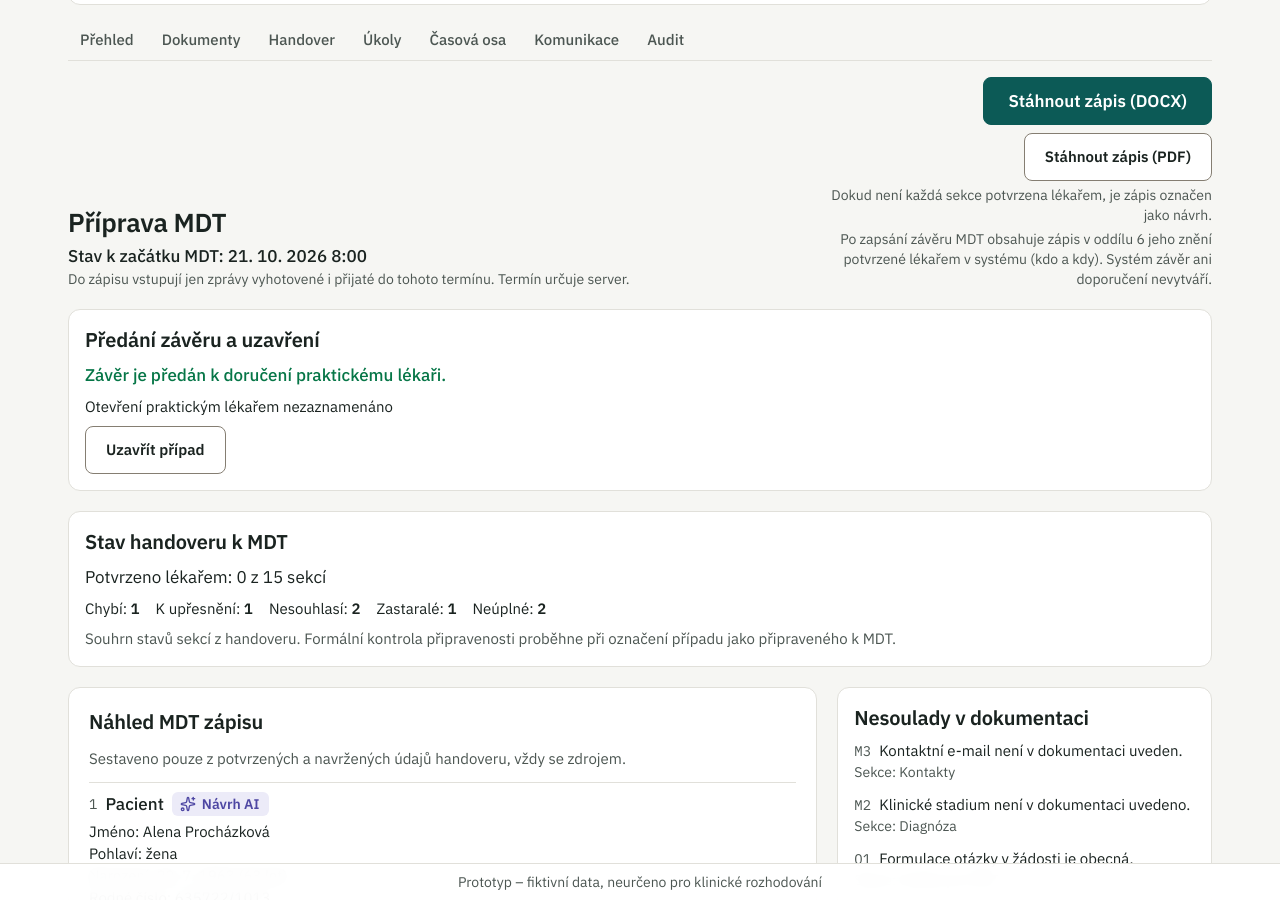
Scenario: Uzavřít případ (koordinátorka) › shows the API problem when closing is refused
This screenshot has width=1280, height=900.
(page scrolled)
Click the button "Uzavřít případ" at (155, 450), box x1=85 y1=426 x2=226 y2=474
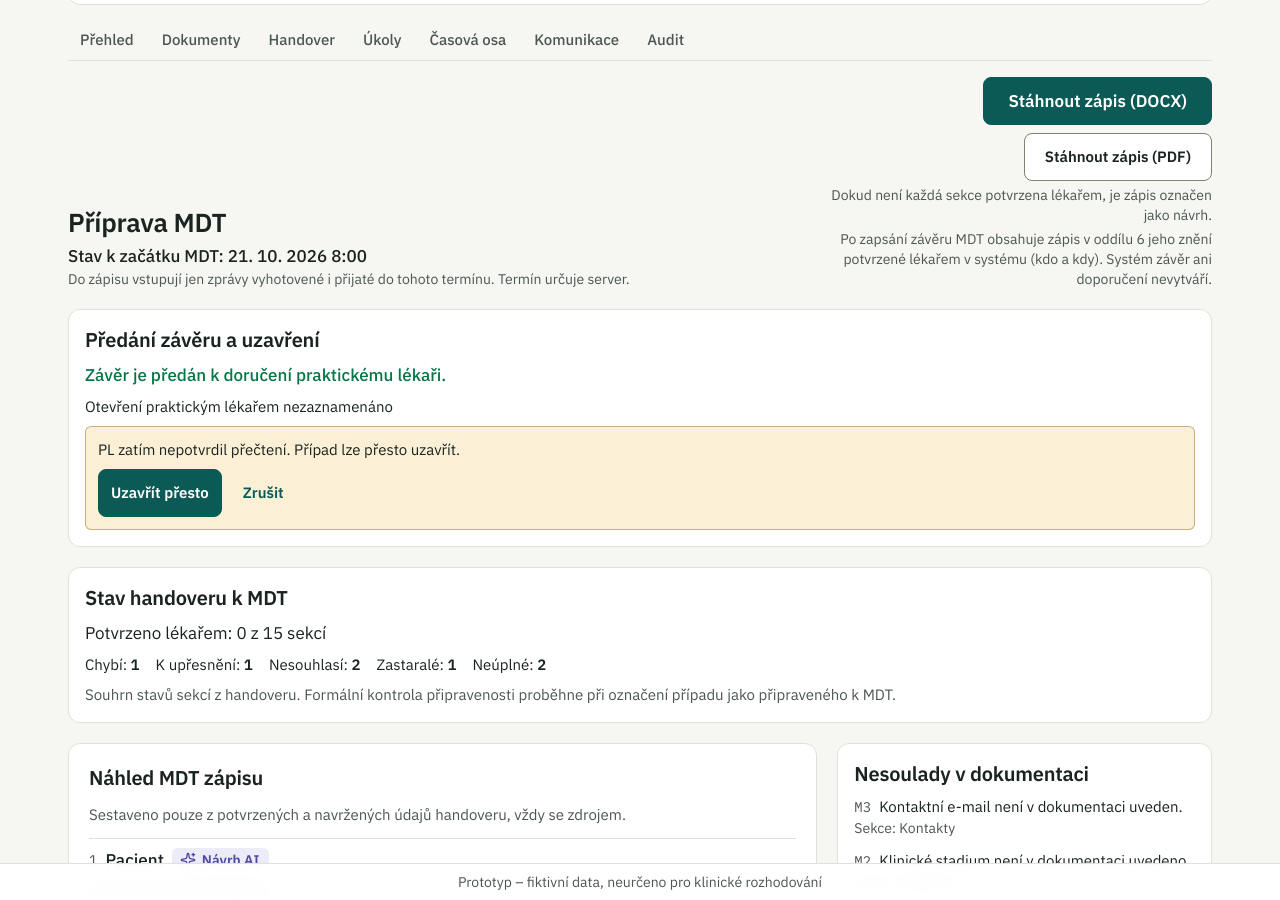
Click the button "Uzavřít přesto" at (160, 493), box x1=98 y1=469 x2=222 y2=517
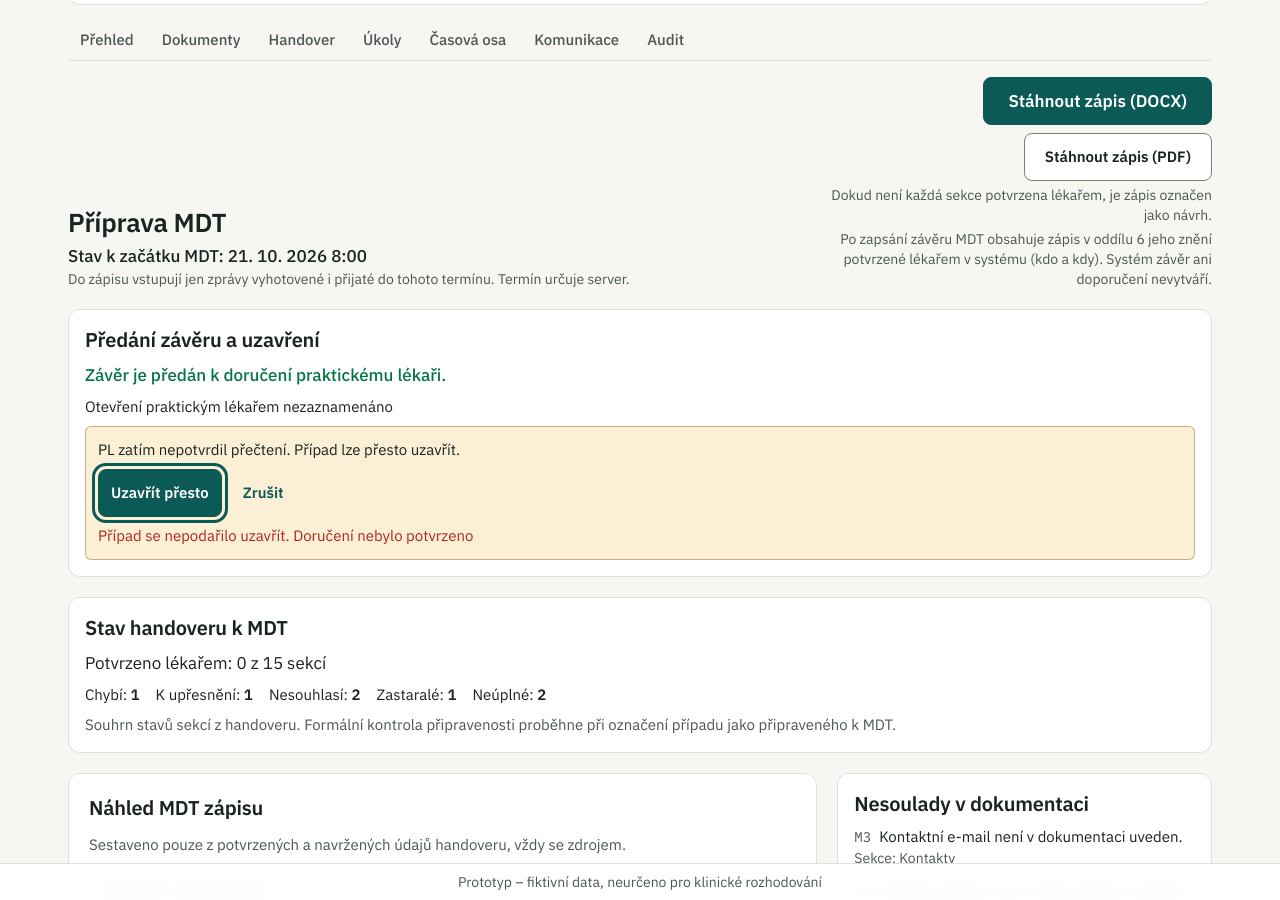
Expected: the message "Případ se nepodařilo uzavřít. Doručení nebylo potvrzeno" is shown, x1=98 y1=526 x2=473 y2=545
